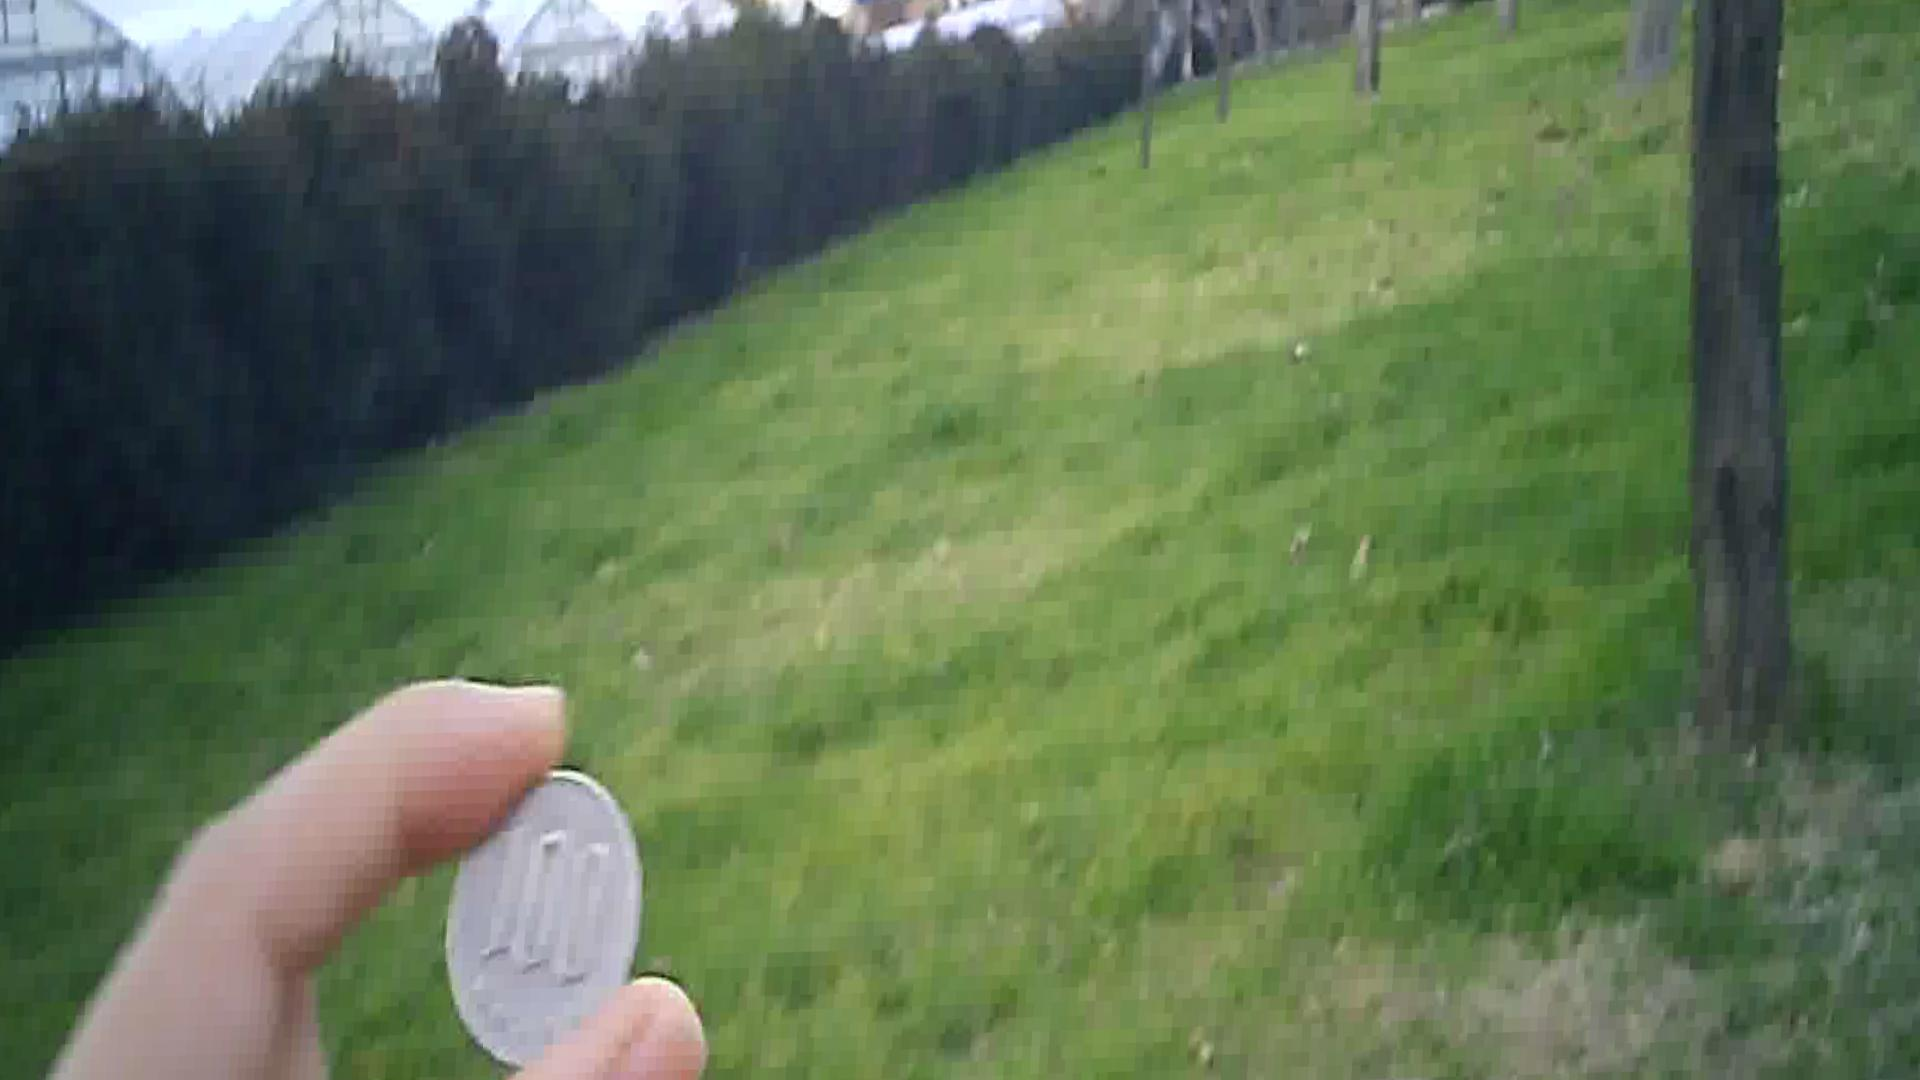100 Yen: (429, 766, 669, 1079)
